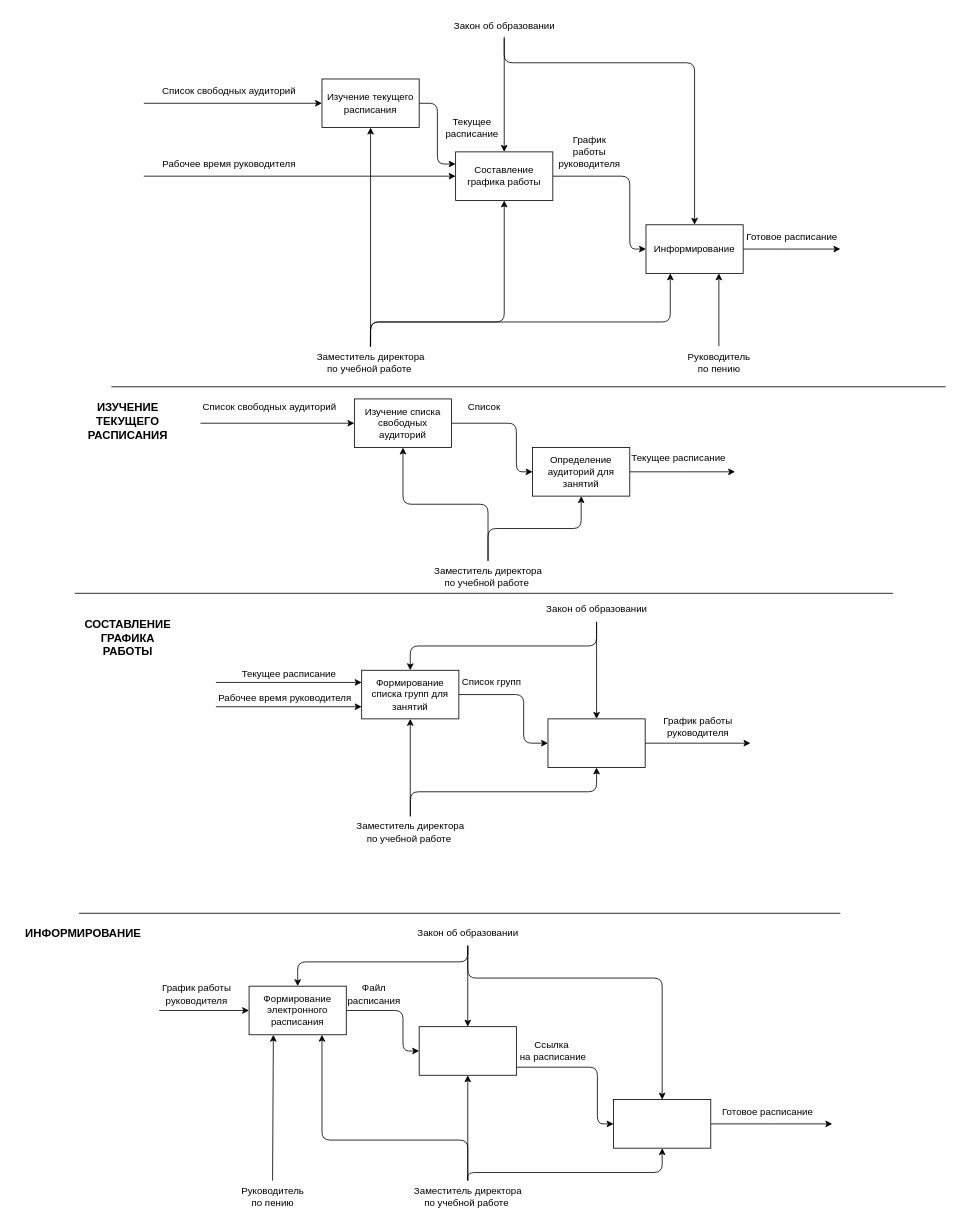
The diagram is 961 pixels wide and 1226 high, and some of its shapes have lost their labels. The centre of each missing label's shape, as x and y in pixels:
"Оповещение руководителей и учеников о новом расписании" belongs at (x=662, y=1123).
"Определение рабочих дней и выходных" belongs at (x=596, y=742).
"Публикация расписания" belongs at (x=467, y=1050).
